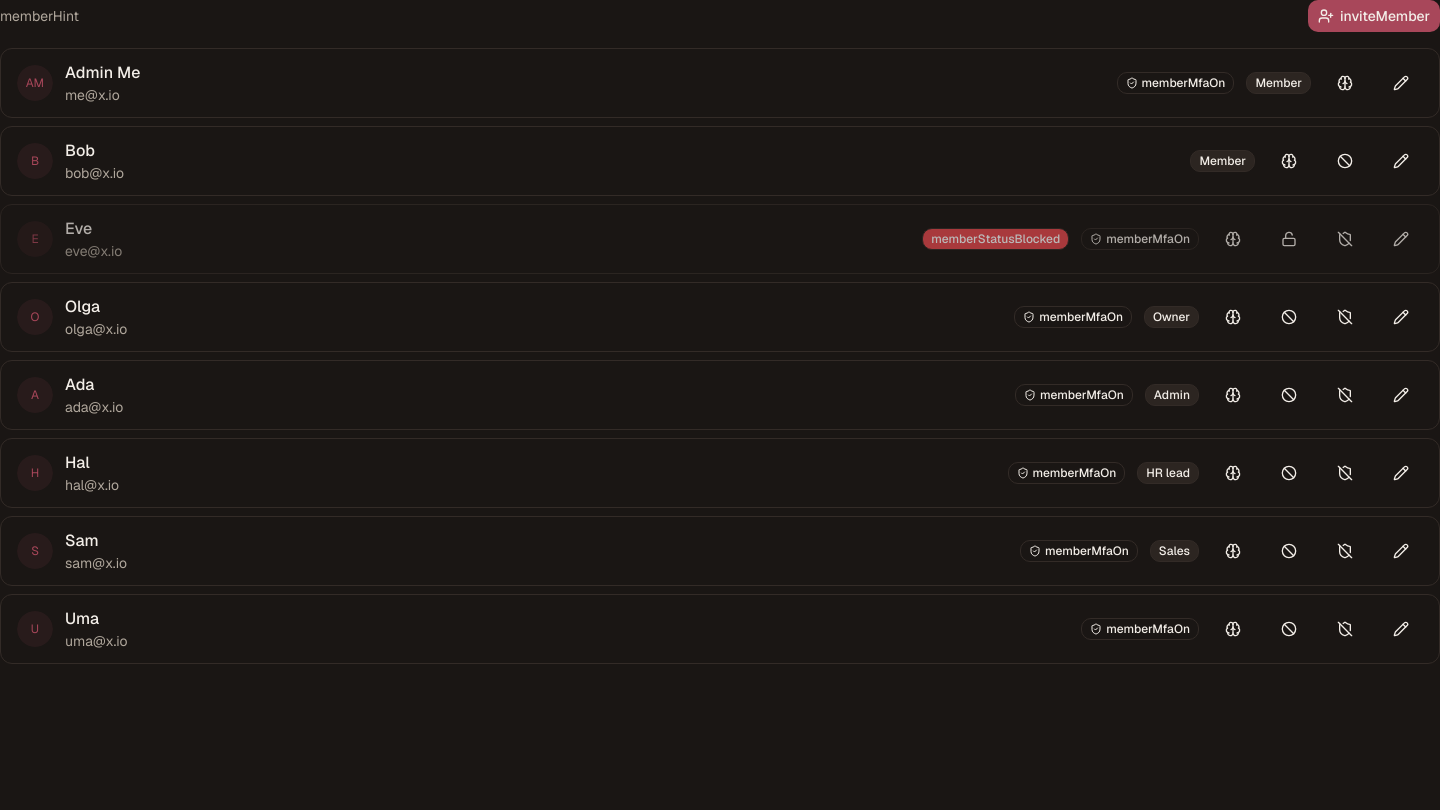
it: MembersPanel › lets an Owner change another Owner's role
Click the button without text in the row of "Owner" at (1401, 317), box left=1379, top=295, right=1423, bottom=339
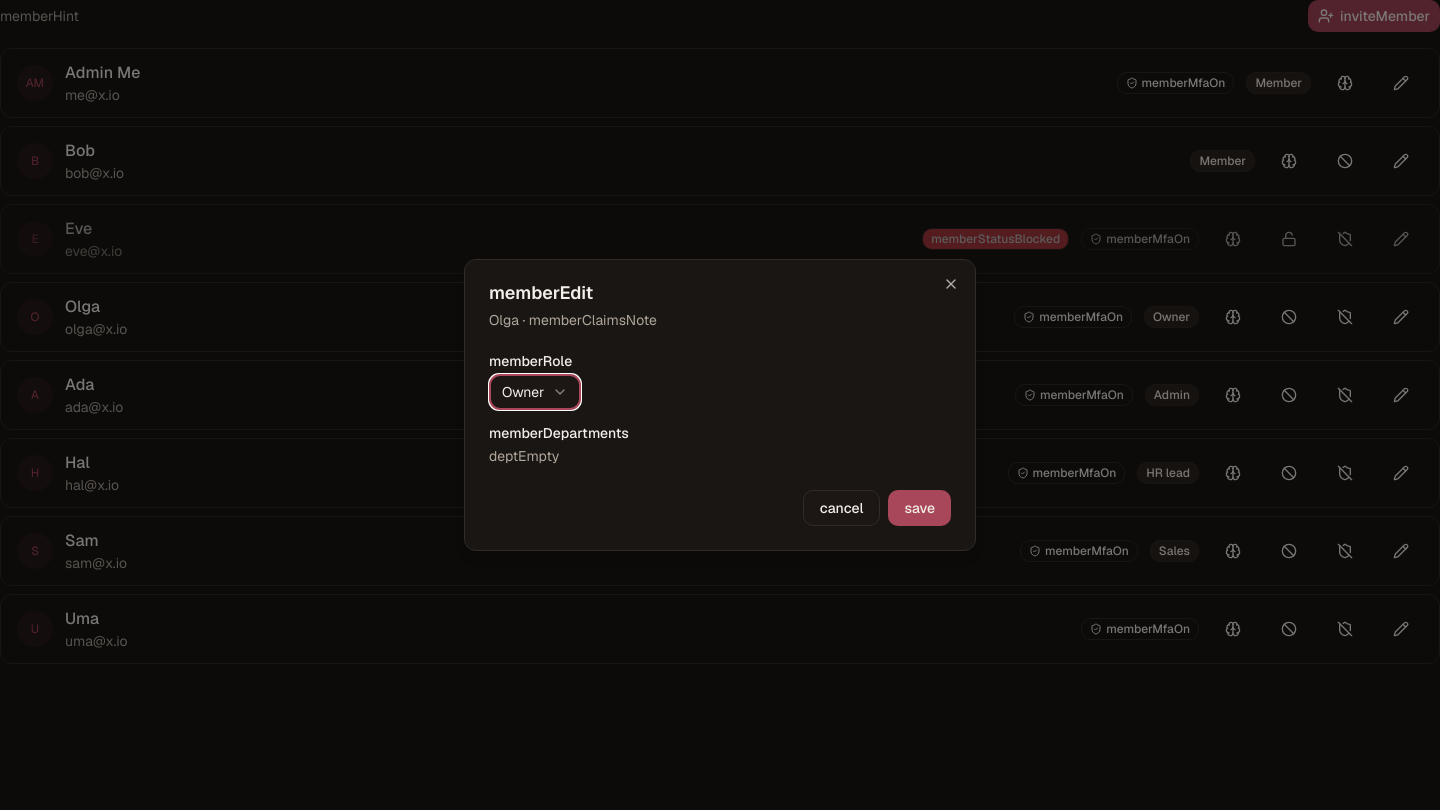
Now the dropdown with test id "member-role-select" is enabled, box left=489, top=374, right=581, bottom=410
